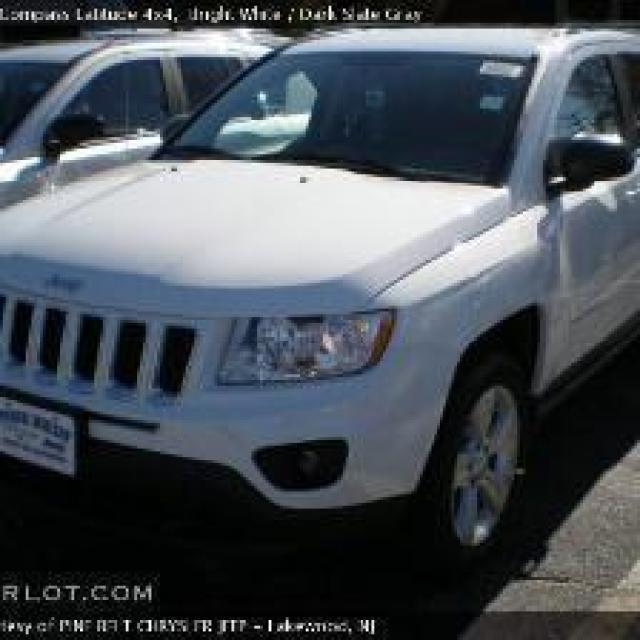damaged: (548, 203, 638, 314)
